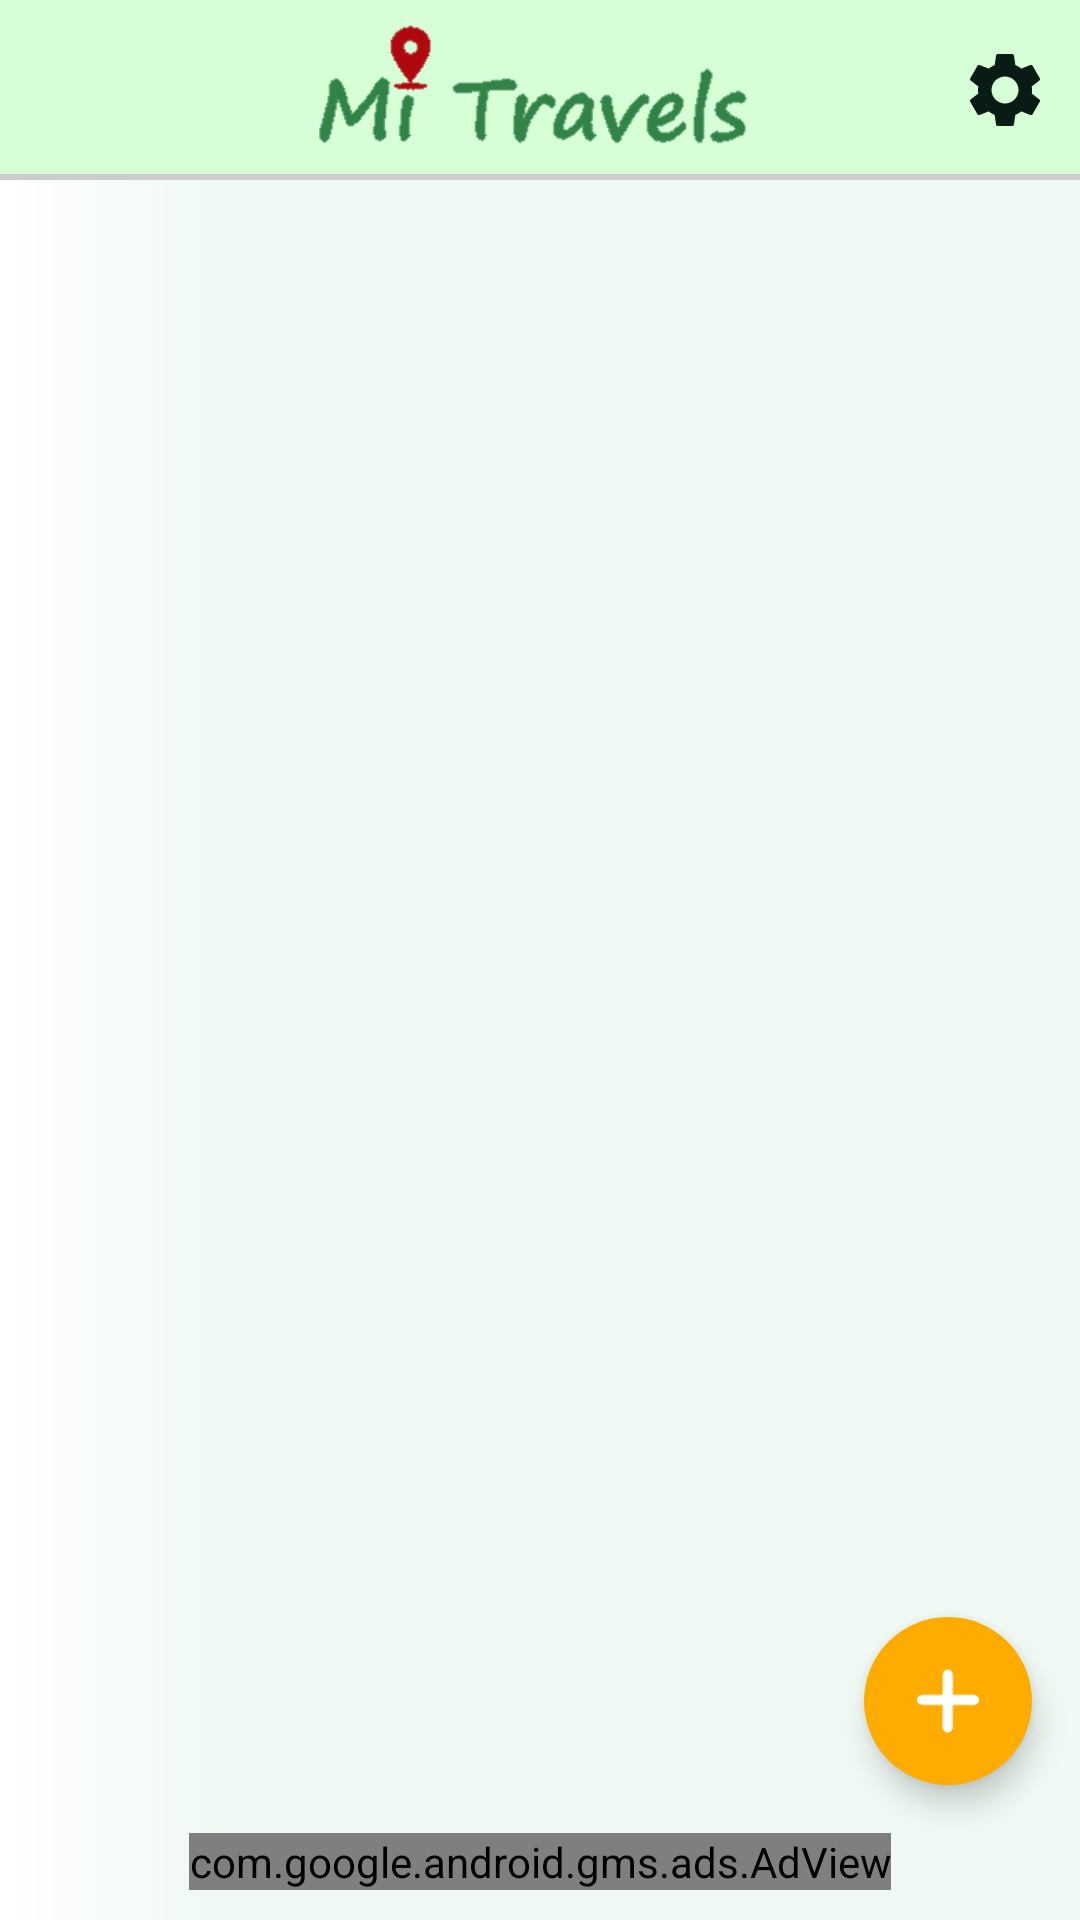

Where icons sit on this 1080*1920 app screen, as [x1, y1, x2, y2]:
add: [864, 1617, 1032, 1785]
settings: [970, 54, 1040, 126]
